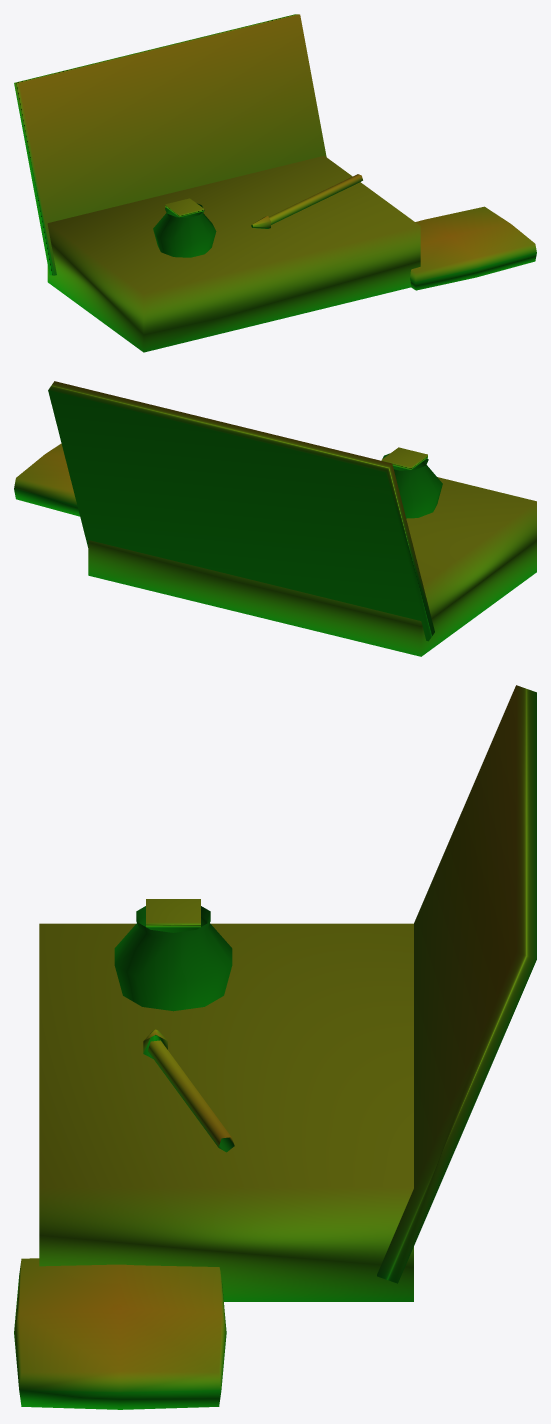
The model's file is ink_kit.glb.
3 views of the same model, one above another, from view 1: azimuth 30°, elevation 25°; view 2: azimuth 150°, elevation 25°; view 3: azimuth 270°, elevation 25° (orthographic). The views are drawn at different scales.
Visible parts, largest first — view 1: ink_kit; view 2: ink_kit; view 3: ink_kit.
Part boxes in pixels (x1,y1,x2,y2): ink_kit: [14, 14, 536, 352]; ink_kit: [14, 381, 536, 656]; ink_kit: [14, 685, 536, 1409].
Size of what is drawn, in the model's own units: 0.4983 by 0.2232 by 0.2951.
